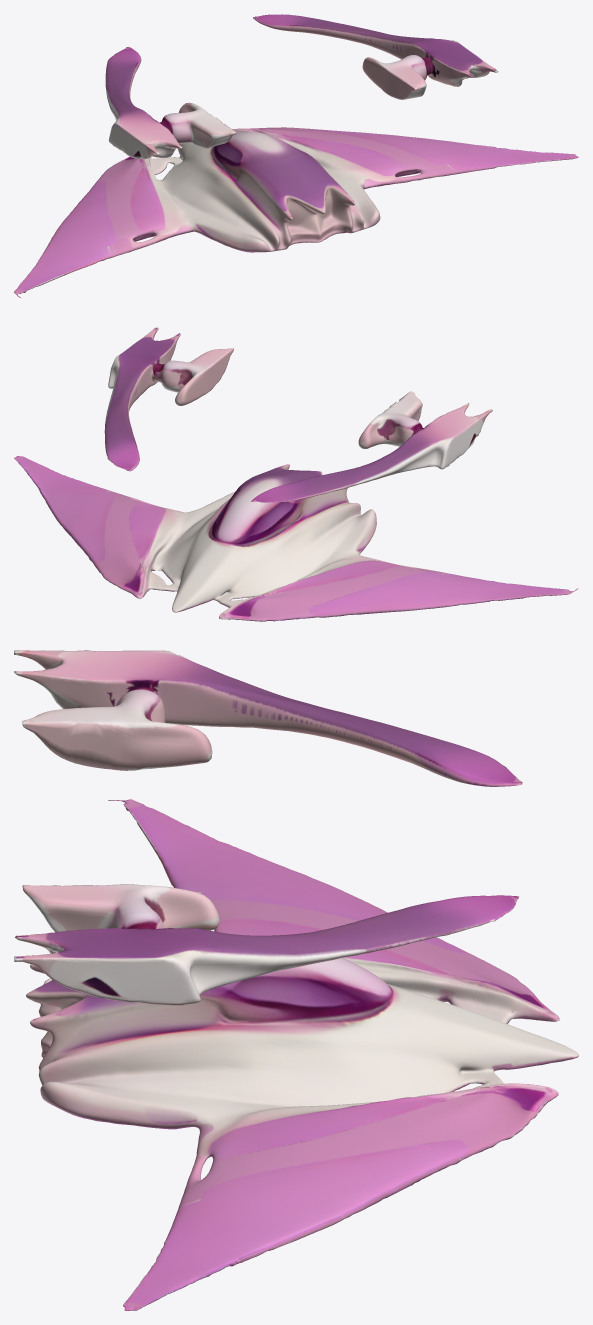
File: enemy-fast.glb
3 views of the same model, one above another, from view 1: azimuth 30°, elevation 25°; view 2: azimuth 150°, elevation 25°; view 3: azimuth 270°, elevation 25° (orthographic). The views are drawn at different scales.
Visible parts, largest first — view 1: model; view 2: model; view 3: model.
Boxes of the visible parts, x1,y1,x2,y2 form: model: [14, 14, 578, 297]; model: [14, 327, 578, 621]; model: [14, 650, 578, 1310].
Size of the model in its own units: 1.89 by 0.4476 by 0.8823.
1 material, 1 textured.
